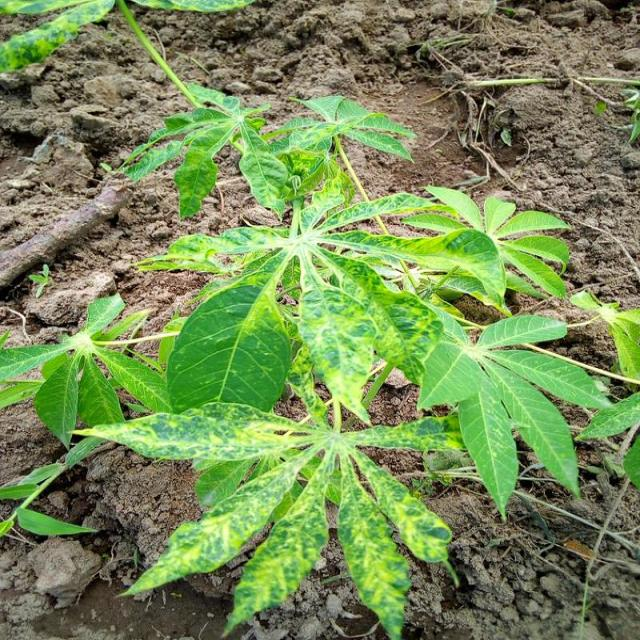cassava leaf: (2, 4, 629, 637), (164, 274, 291, 414)
